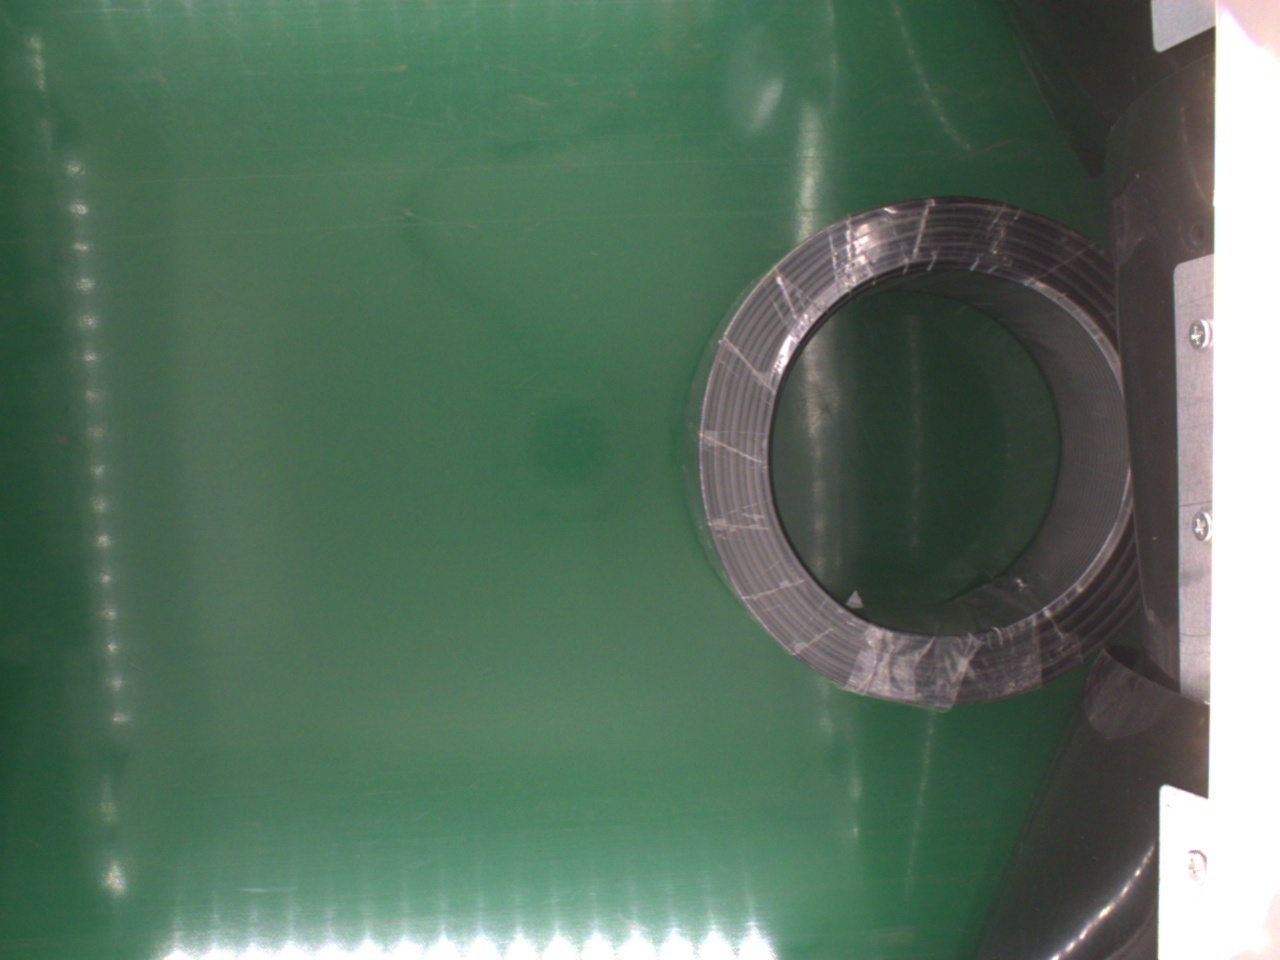black: (687, 197, 1141, 713)
